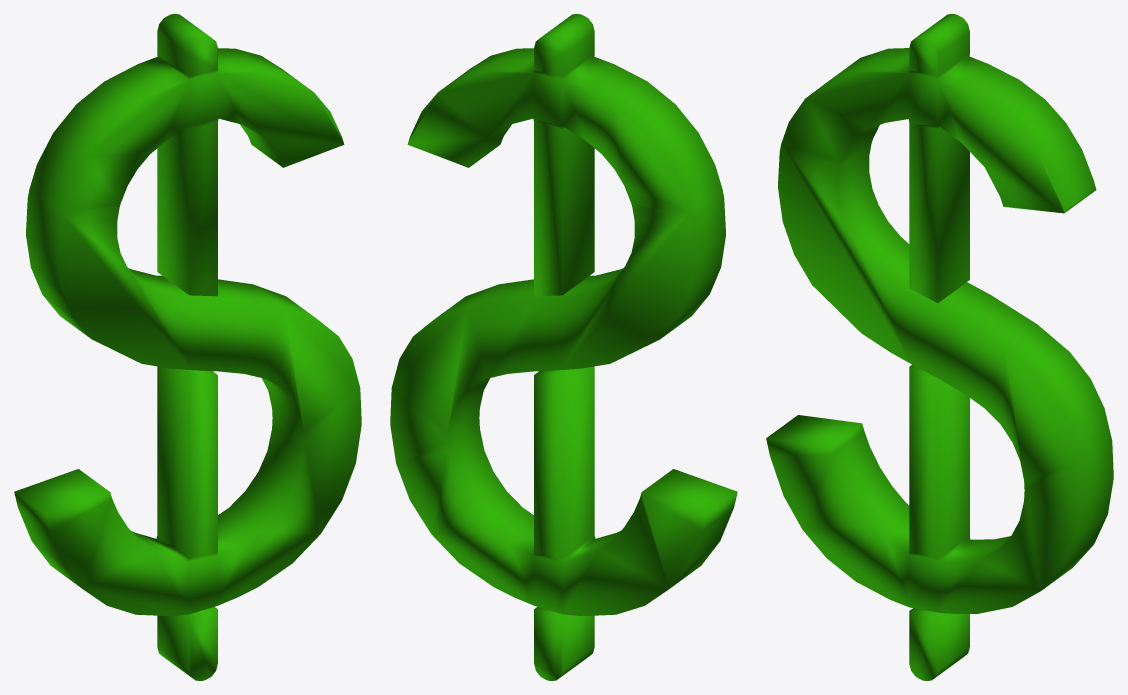
The model's file is Dollar.glb.
3 renders of one model, left to right at view 1: azimuth 30°, elevation 25°; view 2: azimuth 150°, elevation 25°; view 3: azimuth 330°, elevation 25°, orthographic.
Parts seen in each view (by area): view 1: dollar; view 2: dollar; view 3: dollar.
Boxes of the visible parts, bbox=[...] form: dollar: bbox=[14, 14, 361, 680]; dollar: bbox=[390, 14, 737, 680]; dollar: bbox=[766, 14, 1113, 680].
Size of the model in its own units: 1.14 by 2.22 by 0.2.
